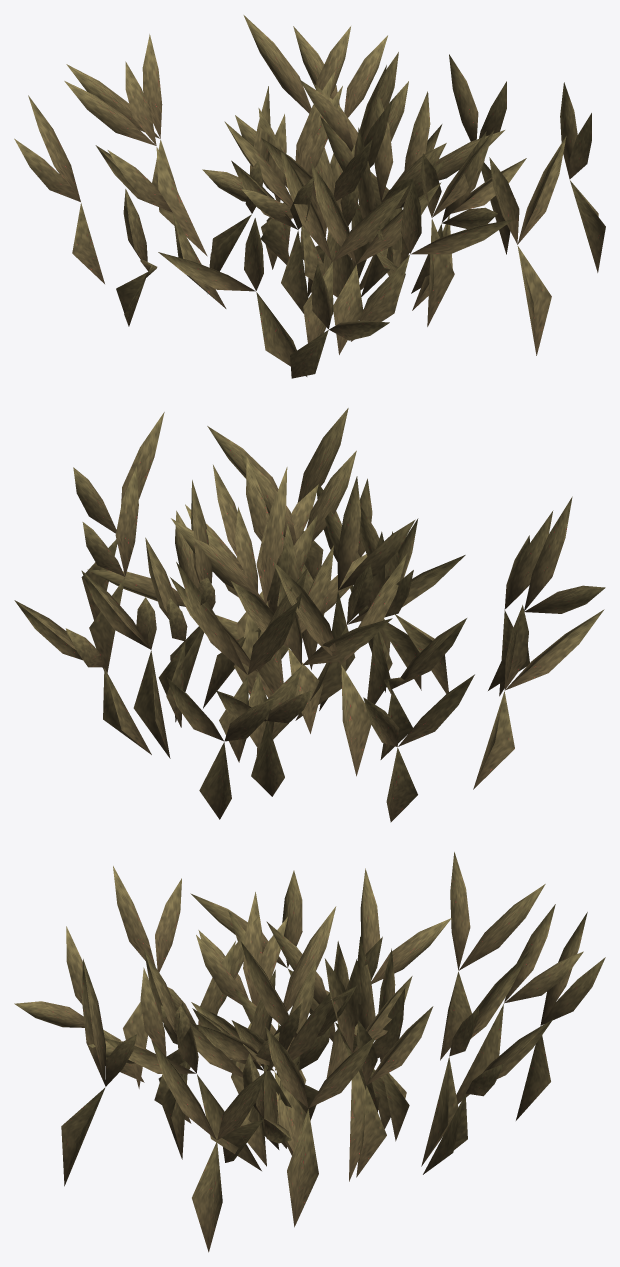
File: icelandmoss.glb
The picture shows the model from 3 angles, top to bottom: view 1: azimuth 30°, elevation 25°; view 2: azimuth 150°, elevation 25°; view 3: azimuth 270°, elevation 25°; orthographic projection. The views are drawn at different scales.
Visible parts, largest first — view 1: icelandmoss; view 2: icelandmoss; view 3: icelandmoss.
Boxes of the visible parts, box(x1,y1,x2,y2) form: icelandmoss: box(14, 15, 605, 378); icelandmoss: box(14, 408, 605, 822); icelandmoss: box(14, 852, 605, 1252).
Size of the model in its own units: 0.2138 by 0.0934 by 0.2244.
Materials: 1 (1 with a texture image).
